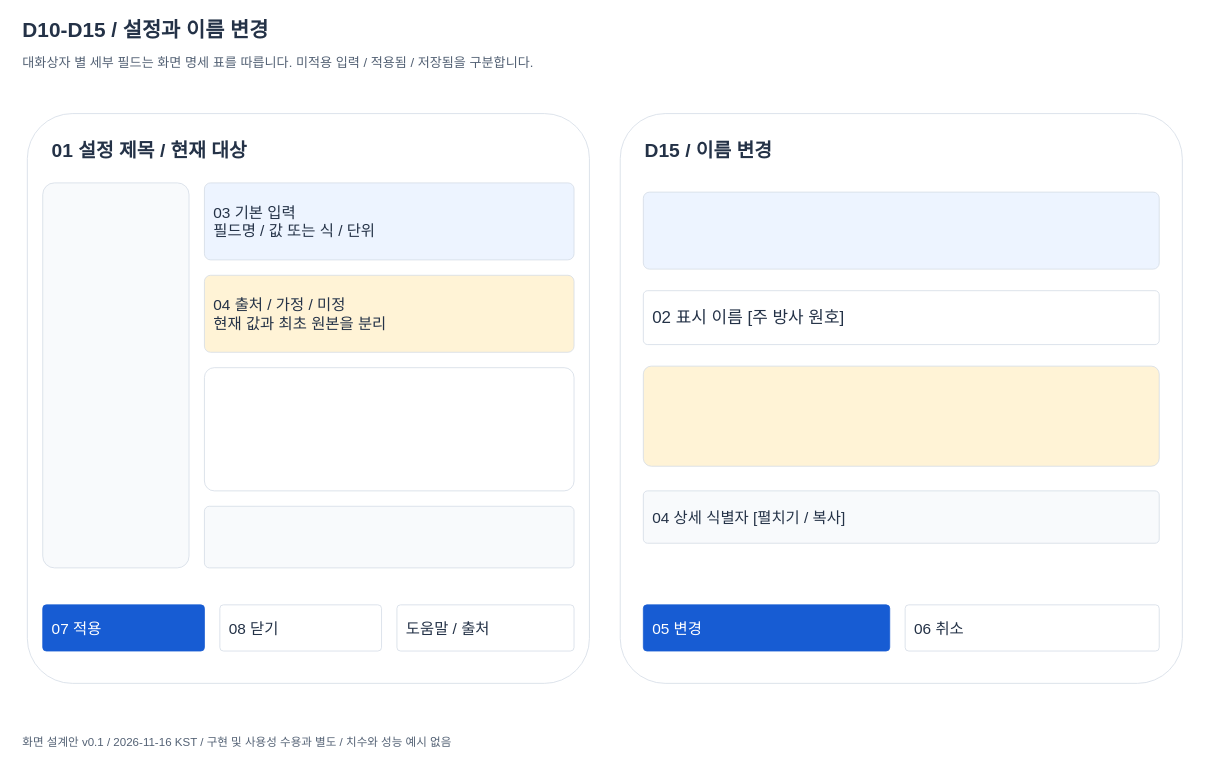
The diagram is 1209 pixels wide and 767 high, and some of its shapes have lost their labels. Here are the shapes that lost their labels. From the top down, the centre of each, then its label:
At (901,230): "01 현재 객체: 원호 01 현재 도체층: Top Copper".
At (115,375): "02 대상 목록 현재 선택 추가 복제 (후속) 삭제".
At (389,429): "05 검토 / 미리보기 변경 대상과 생략 범위 오류는 해당 필드와 연결 새 입력이면 기존 검토 무효화".
At (901,415): "03 같은 종류 이름과 중복이면 안내 내부 ID와 수식 변수는 바뀌지 않음 최초 문헌 / 생성 사본을 덮어쓰지 않음".
At (389,537): "06 미적용 입력 있음".
